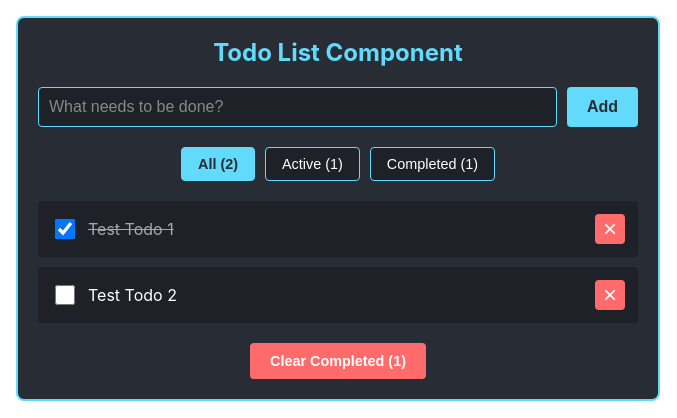
Test: TodoList › filters todos
This screenshot has width=677, height=418.
Click the button with test id "filter-active". click: (312, 164)
box: left=265, top=147, right=360, bottom=181
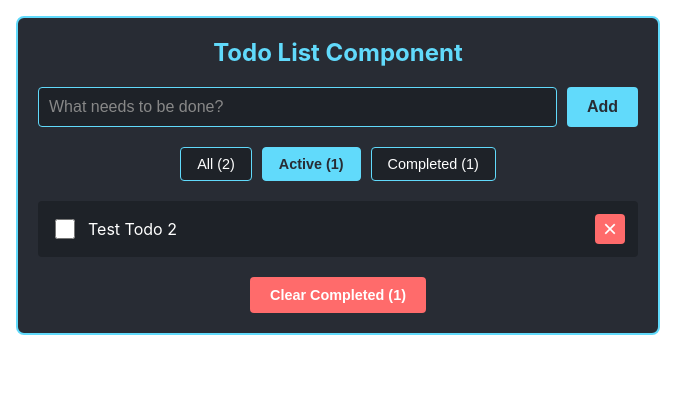
Expected: the list item with test id "2" is shown, left=38, top=201, right=638, bottom=257
Expected: the list item with test id "1" is gone
